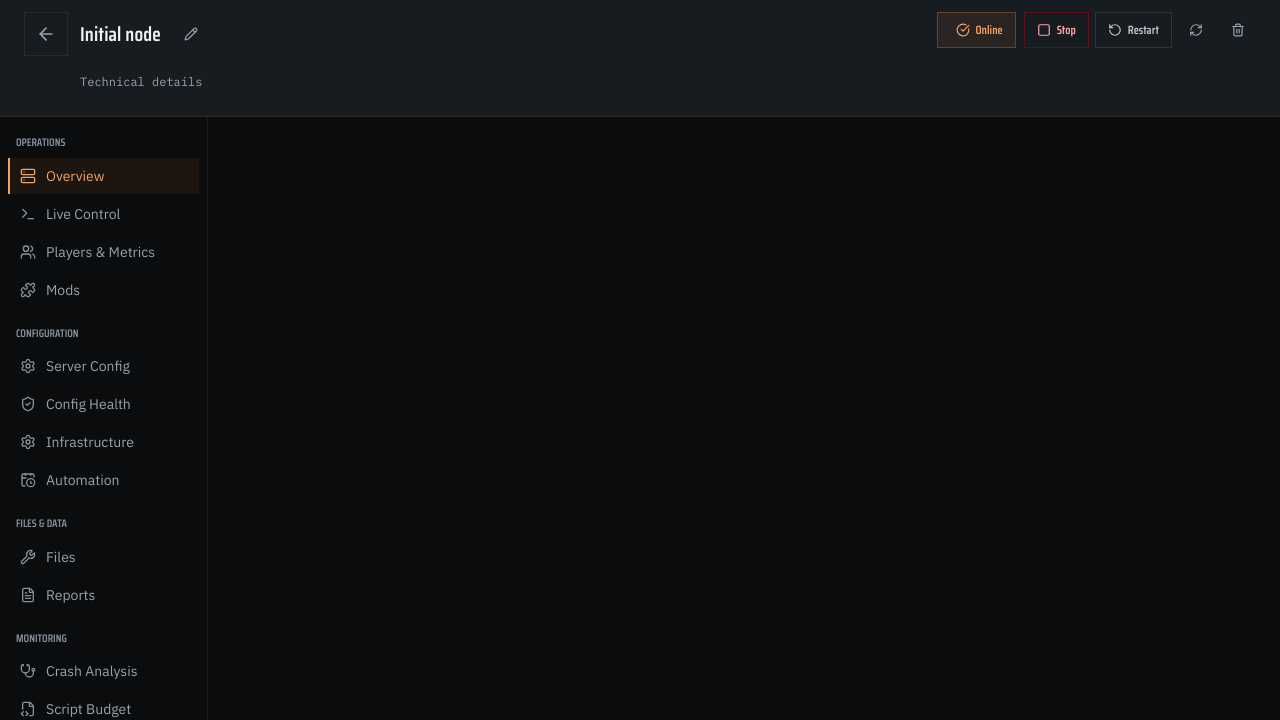
Scenario: server workspace request ordering › keeps an authoritative full refresh when a later summary resolves last
Expected: the heading "Initial node" is shown, [80, 22, 161, 46]
Click the button named "refresh server" at coordinates (1196, 30), box [1178, 12, 1214, 48]
Wait 15000 ms
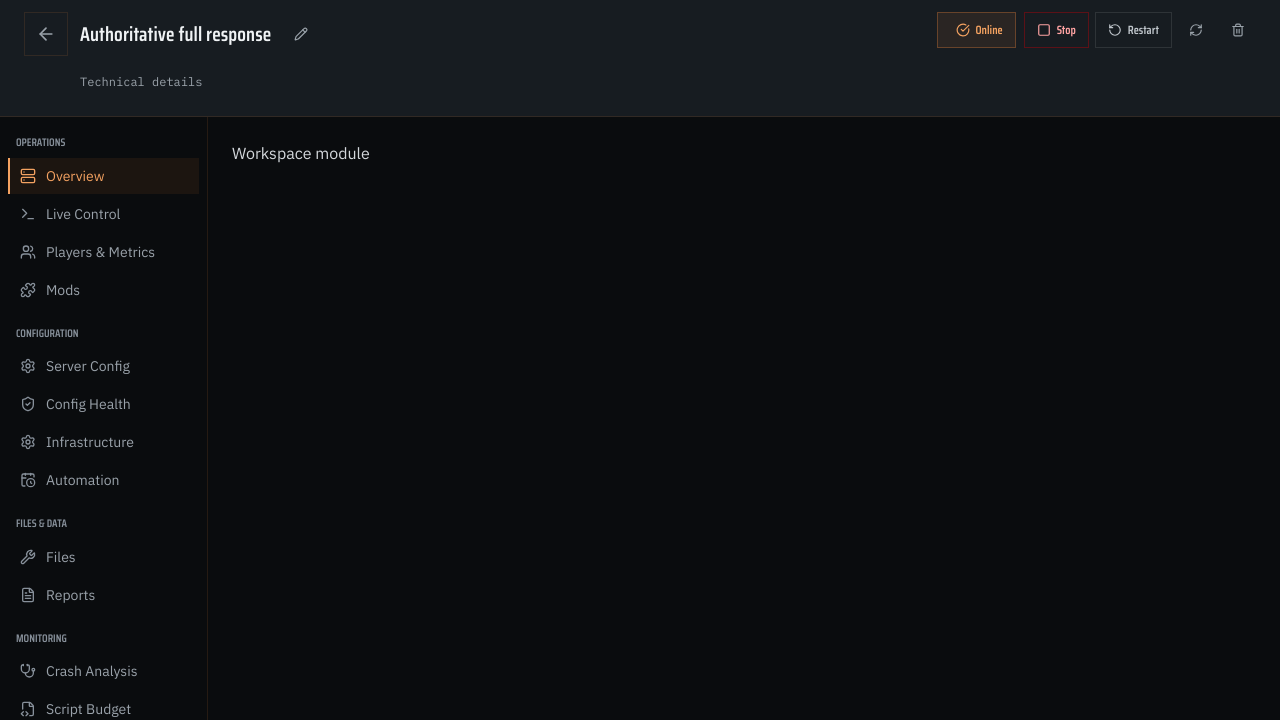
Now the heading "Authoritative full response" is shown, box [80, 22, 271, 46]
